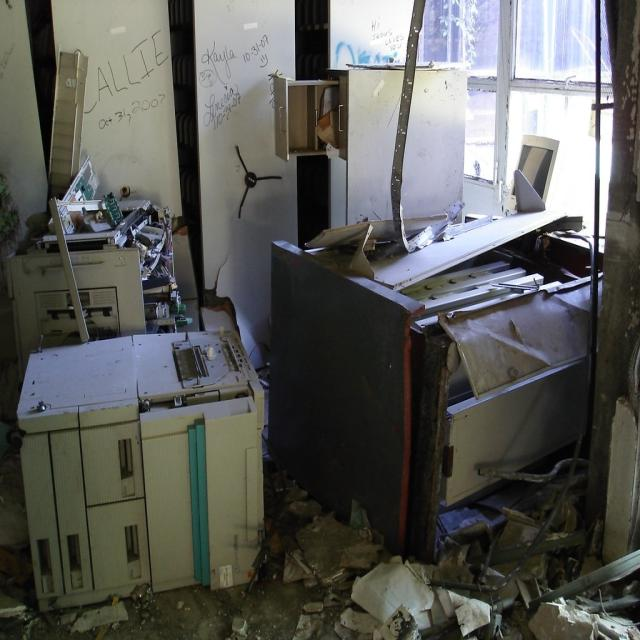E-waste: (20, 325, 270, 615)
